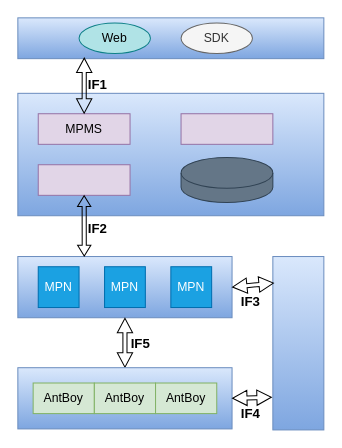
Image size: 342x448. Some labels were removed from this diagram. Each missing label, with the centre of its shape:
"Master" belongs at point (298, 343).
"Monitor" belongs at point (226, 128).
"MySQL" belongs at point (226, 179).
"Scheduler" belongs at point (83, 179).
